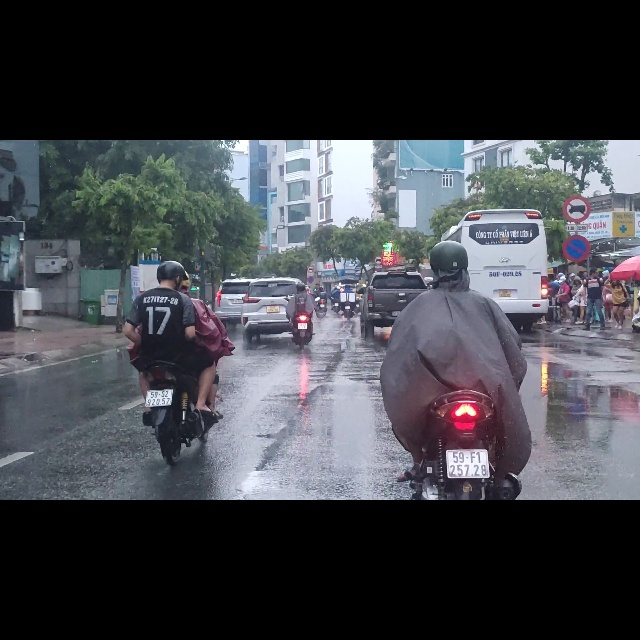bien_cam: (562, 163, 591, 219), (562, 98, 591, 147), (374, 205, 383, 222), (308, 223, 314, 236), (308, 242, 314, 255)
